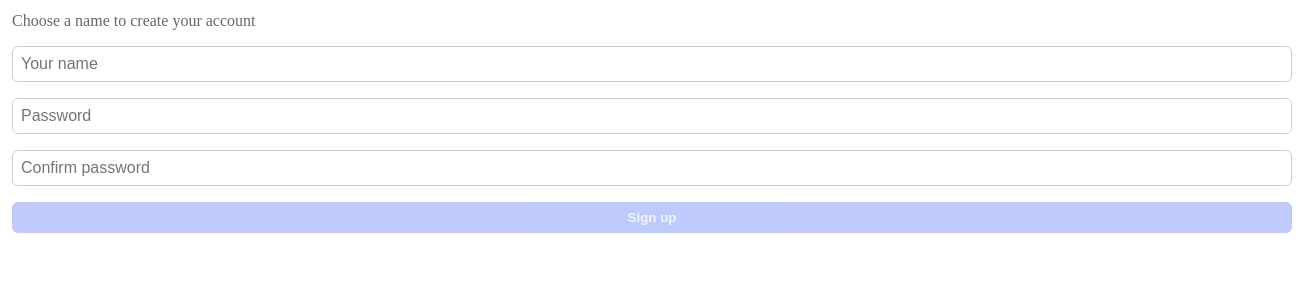
Test: Signing up with an invalid invite shows a user friendly error
Type "Alice" into the field with placeholder "Your name". click: (652, 64)
box: [12, 46, 1292, 82]
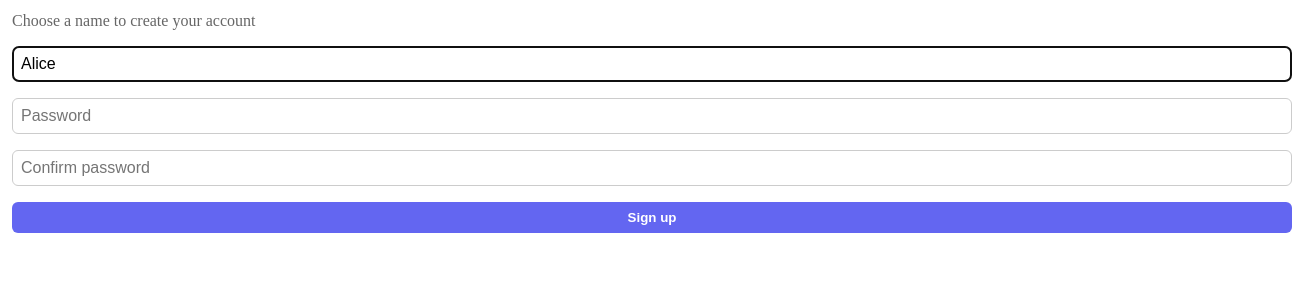
Type "secret" into the password field with placeholder "Password". click: (652, 116)
box: [12, 98, 1292, 134]
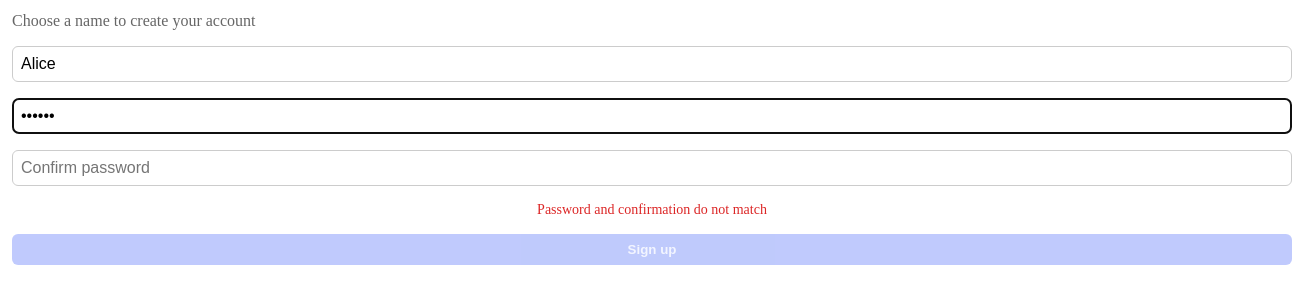
Type "secret" into the password field with placeholder "Confirm password". click: (652, 168)
box: [12, 150, 1292, 186]
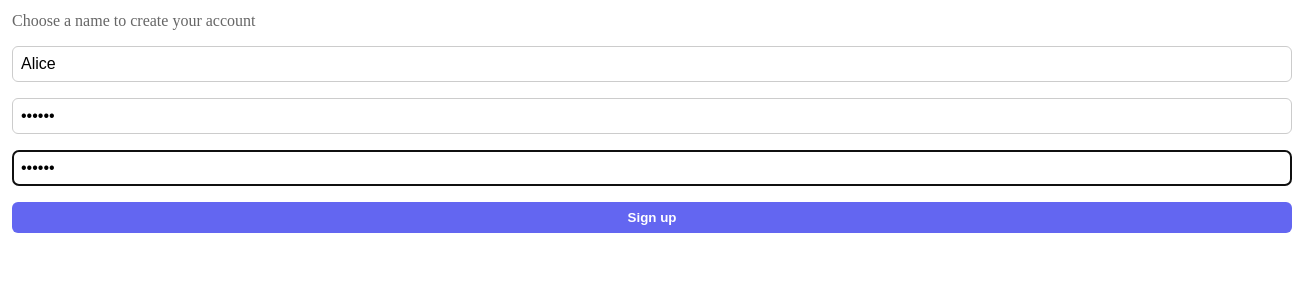
Click the button "Sign up". click: (652, 218)
box: [12, 202, 1292, 233]
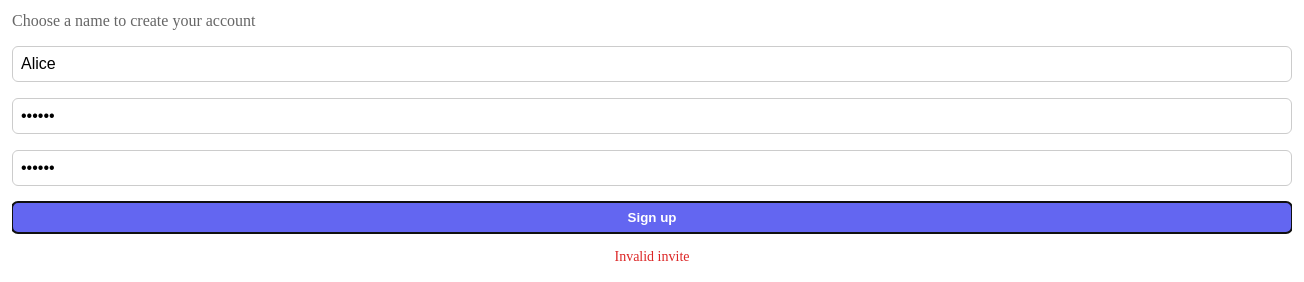
expect the text "Invalid invite" is shown: met, box [614, 249, 690, 264]
